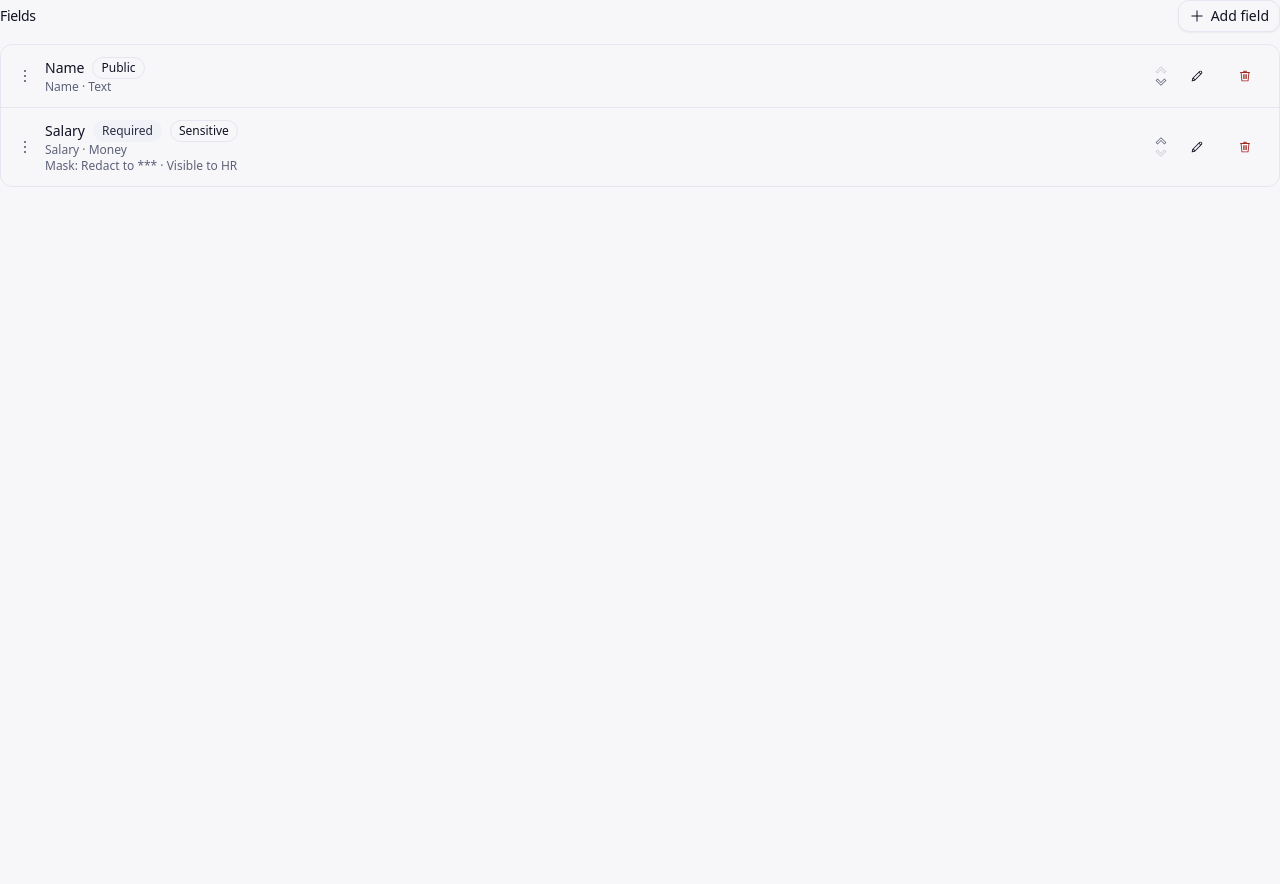
it: the field rows › open a field in its own row, not in a dialog
Click the button named "Edit Salary" at (1197, 147), box [1179,129,1215,165]
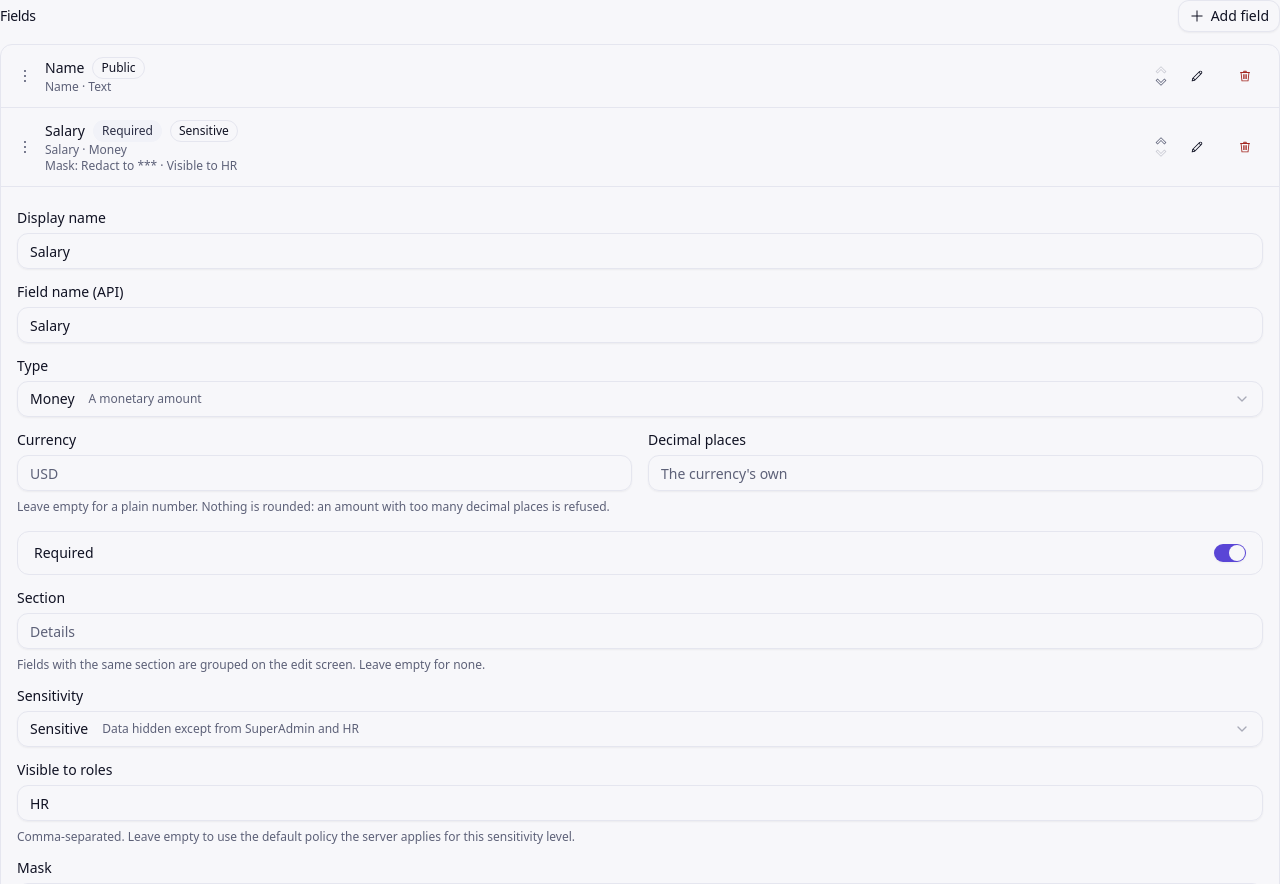
Expected: the field labelled "Display name" holds "Salary", [17,233,1263,269]
